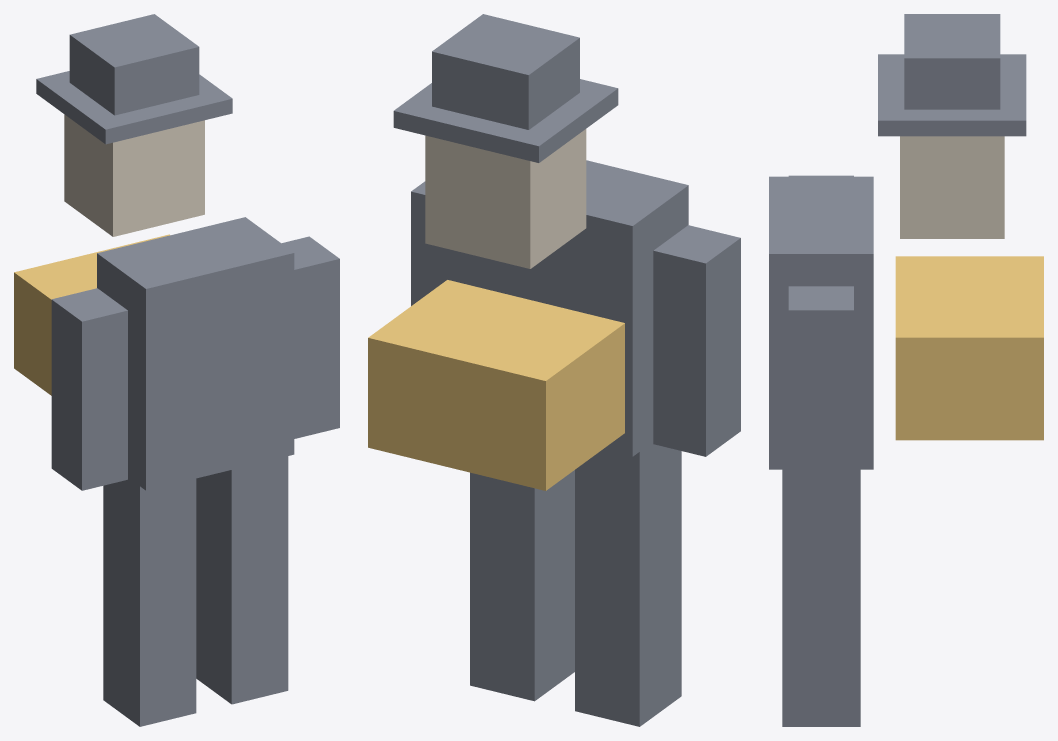
Rendered from npc_gebeugt.glb.
3 renders of one model, left to right at view 1: azimuth 30°, elevation 25°; view 2: azimuth 150°, elevation 25°; view 3: azimuth 270°, elevation 25°, orthographic. The views are drawn at different scales.
Parts seen in each view (by area): view 1: rumpf, bein_links, bein_rechts, arm_links, kopf, hut_kopf, arm_rechts, karton, hut_krempe; view 2: karton, bein_links, bein_rechts, rumpf, arm_links, kopf, hut_kopf, hut_krempe, arm_rechts; view 3: karton, rumpf, bein_rechts, arm_rechts, kopf, hut_kopf, hut_krempe.
Boxes of the visible parts, bbox=[...] form: rumpf: bbox=[97, 217, 294, 490]; bein_links: bbox=[103, 478, 196, 726]; bein_rechts: bbox=[196, 456, 288, 704]; arm_links: bbox=[51, 288, 127, 490]; kopf: bbox=[64, 114, 204, 236]; hut_kopf: bbox=[69, 14, 199, 115]; arm_rechts: bbox=[281, 236, 339, 438]; karton: bbox=[14, 234, 169, 395]; hut_krempe: bbox=[36, 71, 232, 144]; karton: bbox=[368, 280, 624, 490]; bein_links: bbox=[575, 442, 681, 726]; bein_rechts: bbox=[470, 470, 574, 701]; rumpf: bbox=[463, 160, 688, 456]; arm_links: bbox=[653, 225, 740, 456]; kopf: bbox=[425, 129, 586, 268]; hut_kopf: bbox=[432, 14, 579, 129]; hut_krempe: bbox=[393, 79, 618, 162]; arm_rechts: bbox=[411, 181, 462, 305]; karton: bbox=[895, 256, 1043, 440]; rumpf: bbox=[769, 176, 873, 469]; bein_rechts: bbox=[782, 469, 860, 726]; arm_rechts: bbox=[788, 286, 853, 491]; kopf: bbox=[900, 136, 1004, 238]; hut_kopf: bbox=[904, 14, 1000, 109]; hut_krempe: bbox=[878, 54, 1026, 136].
Bounding box in the file's own units: 0.73 × 1.65 × 0.63.
